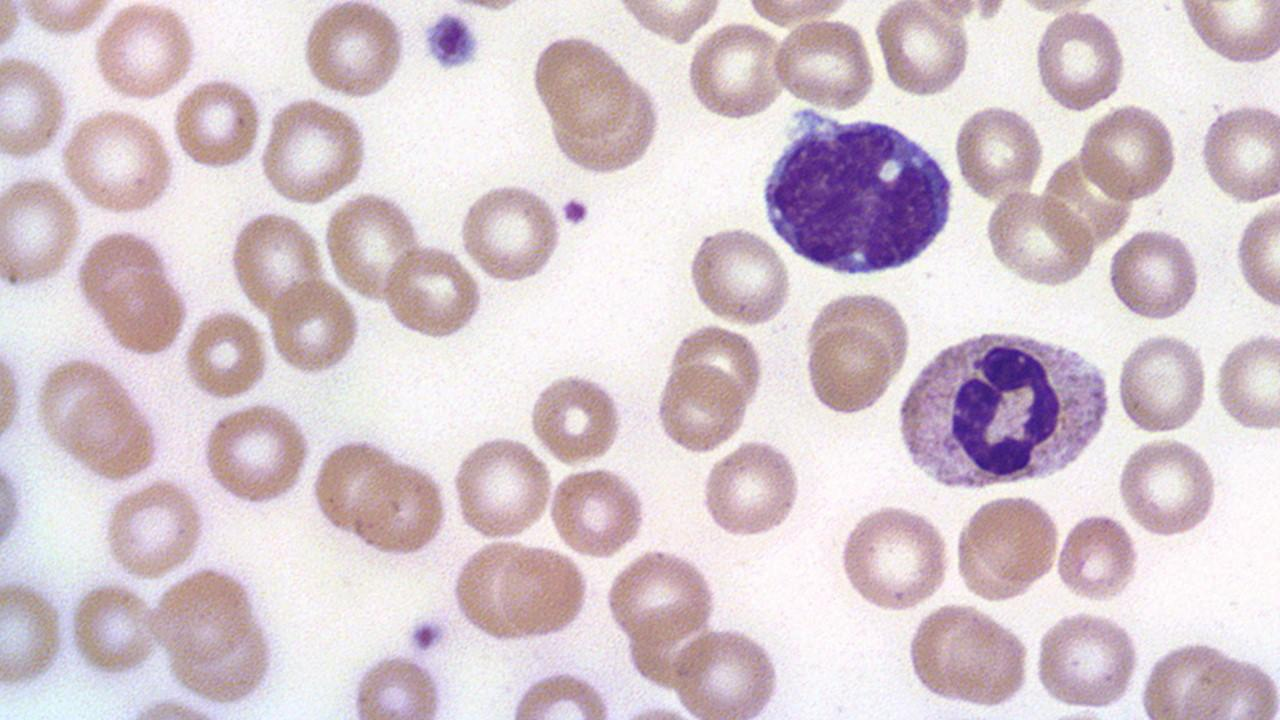Platelets: (420, 10, 483, 74), (558, 193, 592, 231)
RBC: (836, 500, 952, 614), (58, 107, 177, 217), (908, 604, 1029, 709), (256, 97, 372, 204), (952, 488, 1063, 598), (200, 400, 314, 506), (544, 78, 664, 177), (528, 29, 636, 139), (448, 432, 554, 542), (320, 191, 424, 303), (1033, 607, 1141, 713), (982, 189, 1098, 287), (456, 178, 562, 285), (668, 622, 786, 718), (225, 208, 326, 320), (685, 224, 793, 327), (699, 436, 803, 542), (91, 2, 200, 103), (1115, 435, 1221, 538), (299, 1, 408, 100), (602, 548, 718, 641), (150, 566, 260, 664), (683, 20, 786, 124), (99, 480, 206, 579), (33, 354, 134, 458), (1031, 6, 1129, 113), (162, 608, 270, 704), (770, 16, 878, 111), (1078, 101, 1178, 203), (380, 242, 483, 341), (349, 457, 450, 557), (664, 321, 764, 421), (1115, 330, 1209, 435), (528, 368, 628, 466), (266, 276, 362, 378), (546, 464, 650, 558), (1104, 224, 1202, 323), (874, 2, 974, 99), (0, 173, 81, 290), (56, 390, 161, 480), (494, 542, 592, 638), (74, 227, 175, 320), (652, 360, 748, 456), (170, 75, 264, 173), (1137, 638, 1249, 720), (1196, 97, 1280, 206), (68, 581, 161, 679), (310, 437, 402, 536), (92, 266, 191, 358), (802, 319, 894, 418), (953, 102, 1045, 201), (450, 539, 540, 639), (183, 306, 270, 401), (1054, 510, 1140, 605), (0, 52, 69, 164), (1, 578, 67, 692), (346, 650, 452, 718), (1213, 327, 1280, 434), (1177, 2, 1279, 67), (1178, 652, 1280, 716), (1232, 196, 1280, 312), (506, 669, 614, 718), (0, 452, 28, 564), (0, 334, 25, 459)
WBC: (891, 320, 1113, 494), (754, 102, 959, 282)
